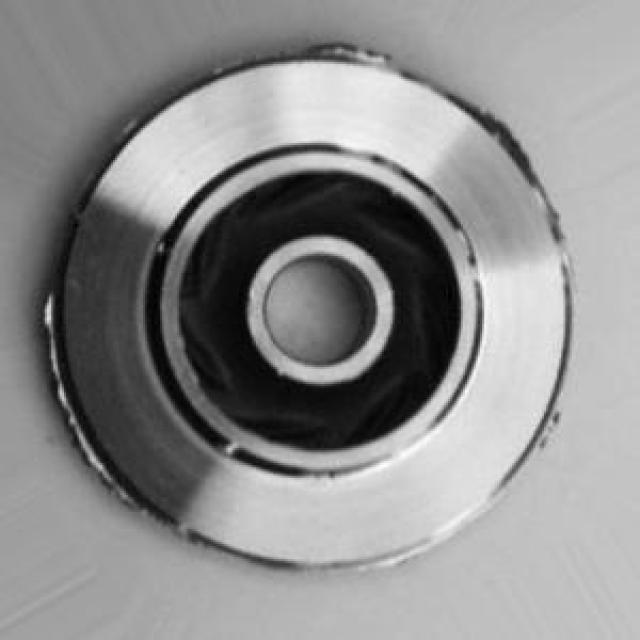Defect: (33, 336, 80, 434), (468, 90, 527, 158)
